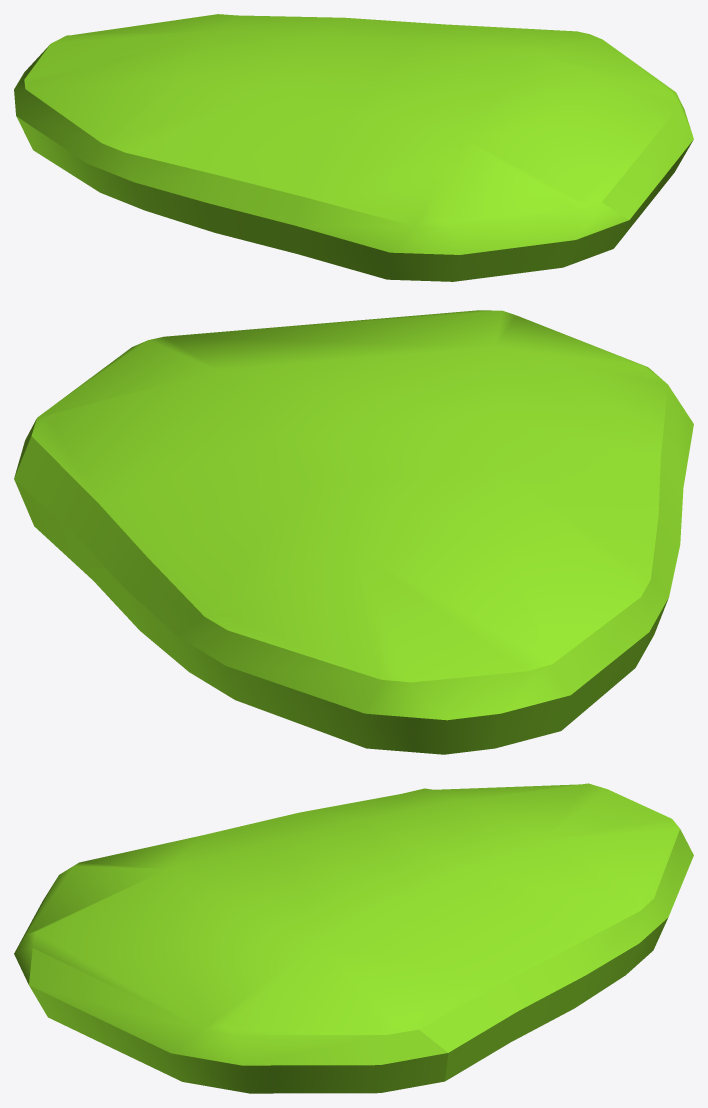
Rendered from Dafualt_seed_Green.fbx.
The picture shows the model from 3 angles, top to bottom: view 1: azimuth 30°, elevation 25°; view 2: azimuth 150°, elevation 25°; view 3: azimuth 270°, elevation 25°; orthographic projection. The views are drawn at different scales.
Parts seen in each view (by area): view 1: seed1.054; view 2: seed1.054; view 3: seed1.054.
Part boxes in pixels (x1,y1,x2,y2): seed1.054: (14,14,693,281); seed1.054: (14,310,693,754); seed1.054: (14,783,693,1093).
Bounding box in the file's own units: 49.27 × 12.14 × 53.74.
